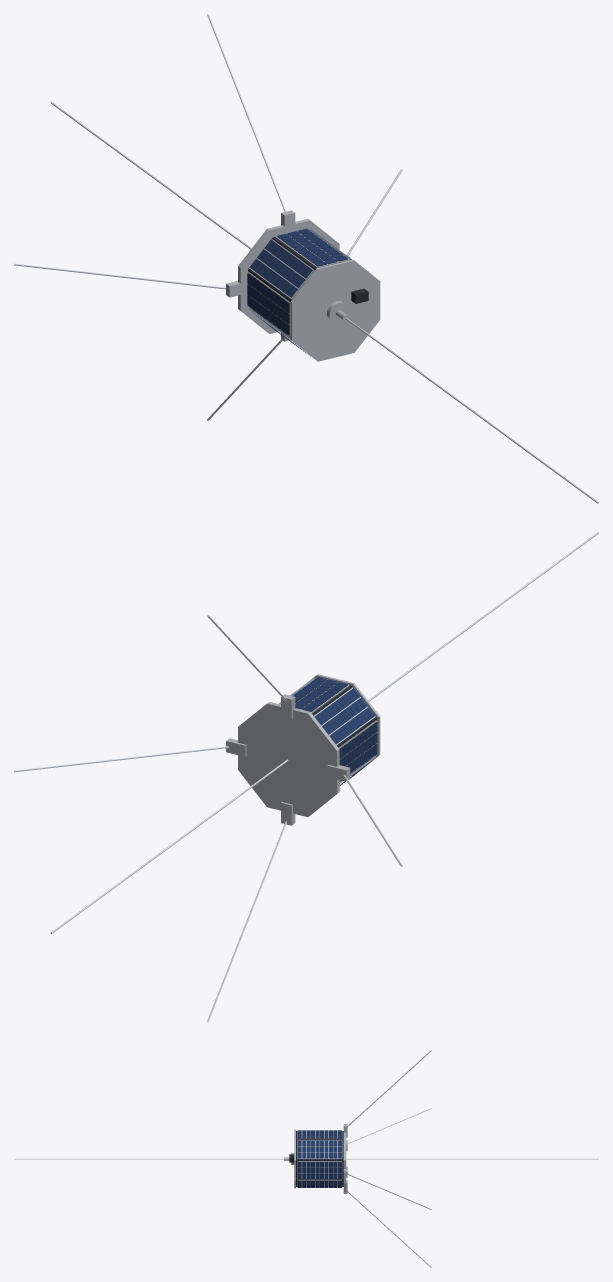
3 renders of one model, top to bottom at view 1: azimuth 30°, elevation 25°; view 2: azimuth 150°, elevation 25°; view 3: azimuth 270°, elevation 25°, orthographic. The views are drawn at different scales.
Visible parts, largest first — view 1: body, solar-panel, foil; view 2: body, solar-panel, foil; view 3: body, solar-panel, foil.
Boxes of the visible parts, <box> form: body: <box>14,14,598,503</box>; solar-panel: <box>247,228,347,356</box>; foil: <box>248,231,347,337</box>; body: <box>14,532,598,1021</box>; solar-panel: <box>292,677,377,785</box>; foil: <box>294,680,376,781</box>; body: <box>14,1050,598,1267</box>; solar-panel: <box>297,1130,341,1187</box>; foil: <box>296,1131,343,1186</box>.
Size of the model in its own units: 1.8 by 1.8 by 4.4.
